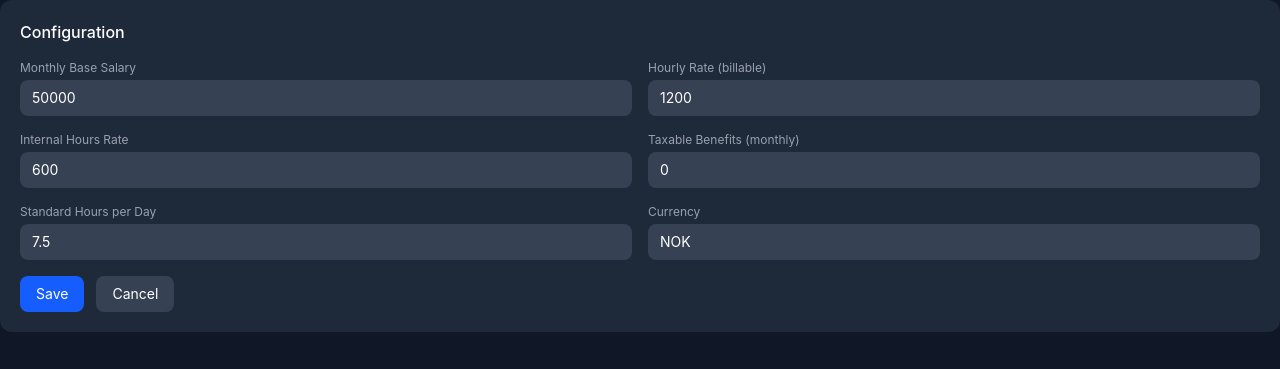
Test: ConfigEditor decimal input › blocks the save and shows an inline error for non-numeric input
The width and height of the screenshot is (1280, 369).
Replace the text in the field labelled "Hourly Rate (billable)" with "abc" at (954, 98), box [648,80,1260,116]
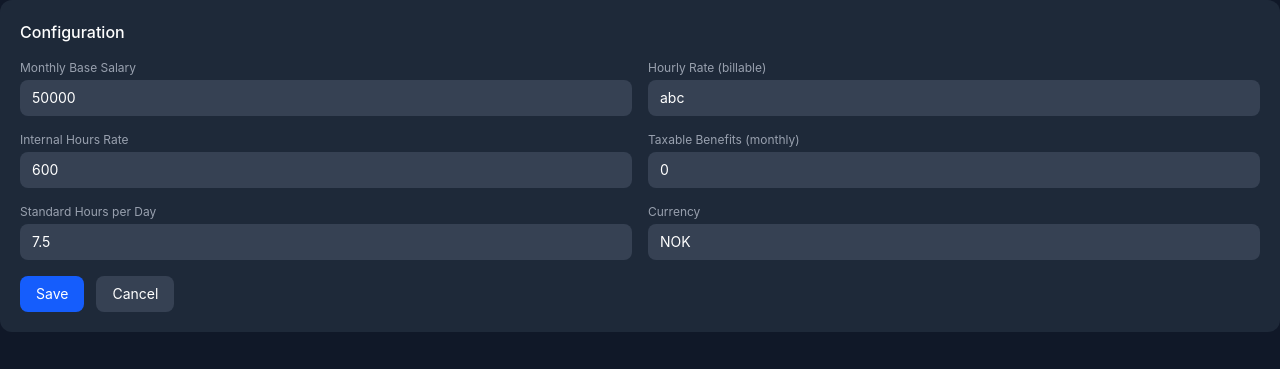
Click the button "Save" at (52, 294), box [20,276,84,312]
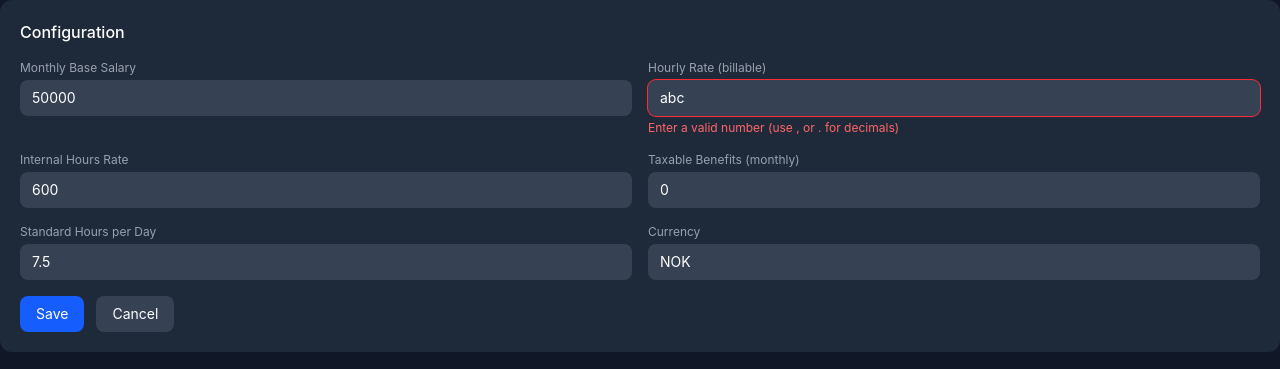
Result: the text "Enter a valid number (use , or . for decimals)" is shown at [648,120,899,135]
